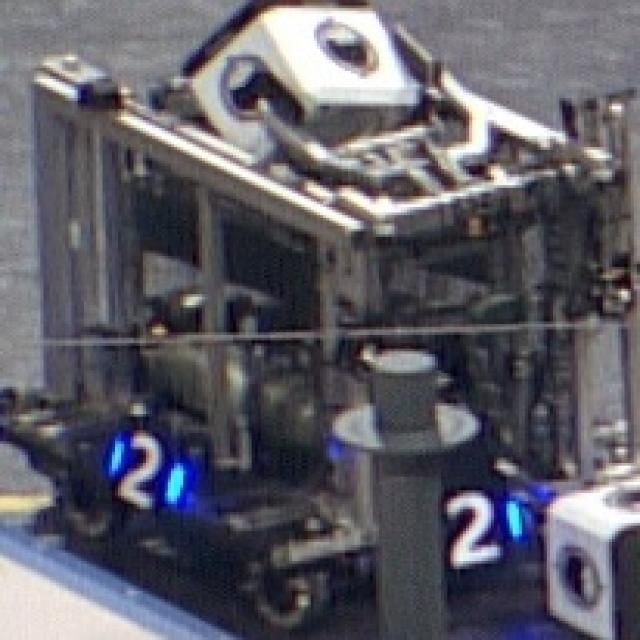B2: (102, 430, 190, 512), (438, 482, 522, 567)
